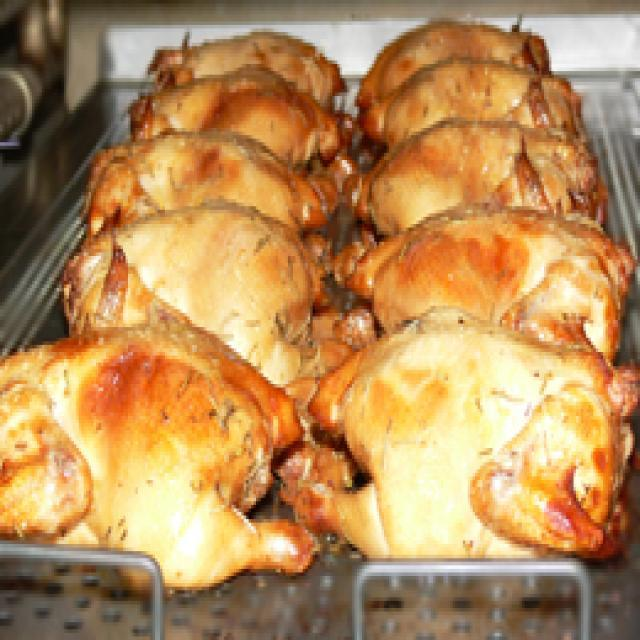Chicken roast: (320, 349, 638, 551), (12, 349, 260, 559), (61, 221, 329, 391), (347, 228, 630, 360), (352, 125, 618, 231), (86, 132, 320, 235), (126, 54, 348, 157), (369, 21, 553, 107), (372, 78, 581, 138)
